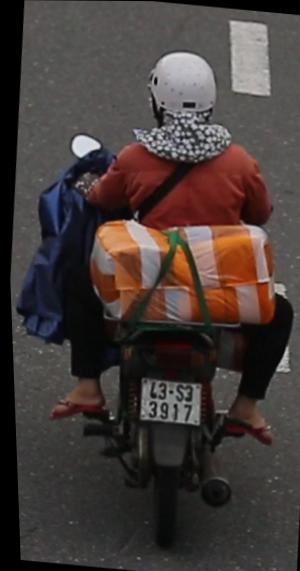LP: (130, 369, 204, 428)
helmet: (139, 41, 224, 135)
